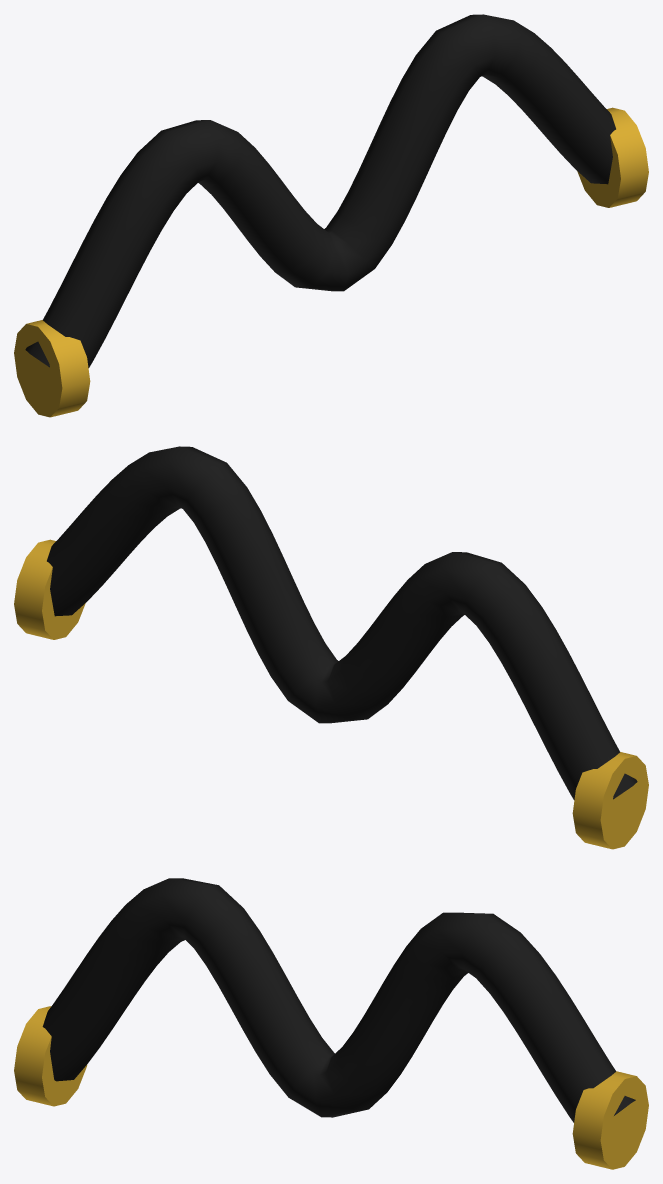
The model's file is cable.glb.
3 views of the same model, one above another, from view 1: azimuth 30°, elevation 25°; view 2: azimuth 150°, elevation 25°; view 3: azimuth 330°, elevation 25° (orthographic).
Bounding box in the file's own units: 0.8595 × 0.3987 × 0.12.
